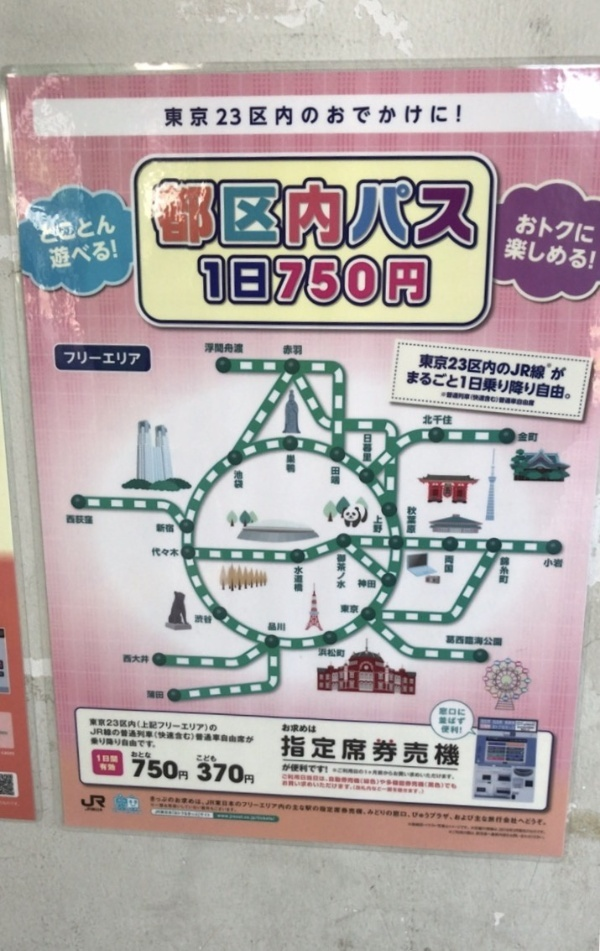text: (161, 186, 176, 244), (177, 186, 192, 244), (193, 186, 208, 244), (209, 186, 224, 244), (225, 186, 240, 244), (241, 186, 256, 244), (257, 186, 272, 244), (273, 186, 288, 244), (289, 186, 304, 244), (305, 186, 320, 244), (321, 186, 336, 244), (337, 186, 352, 244), (353, 186, 368, 244), (369, 186, 384, 244), (385, 186, 400, 244), (401, 186, 416, 244), (417, 186, 432, 244), (433, 186, 448, 244), (449, 186, 464, 244), (161, 799, 176, 845), (177, 799, 192, 845), (193, 799, 208, 845), (209, 799, 224, 845), (225, 799, 240, 845), (241, 799, 256, 845), (257, 799, 272, 845), (273, 799, 288, 845), (289, 799, 304, 845), (305, 799, 320, 845), (321, 799, 336, 845), (337, 799, 352, 845), (353, 799, 368, 845), (369, 799, 384, 845), (385, 799, 400, 845), (401, 799, 416, 845), (417, 799, 432, 845), (433, 799, 448, 845), (449, 799, 464, 845), (465, 799, 480, 845), (481, 799, 496, 845), (497, 799, 512, 845), (513, 799, 528, 845), (529, 799, 544, 845), (209, 262, 224, 301), (225, 262, 240, 301), (241, 262, 256, 301), (257, 262, 272, 301), (273, 262, 288, 301), (289, 262, 304, 301), (305, 262, 320, 301), (321, 262, 336, 301), (337, 262, 352, 301), (353, 262, 368, 301), (369, 262, 384, 301), (385, 262, 400, 301), (401, 262, 416, 301), (513, 237, 528, 271), (529, 237, 544, 271), (545, 237, 560, 271), (561, 237, 576, 271), (577, 237, 592, 271), (289, 737, 304, 770), (305, 737, 320, 770), (321, 737, 336, 770), (337, 737, 352, 770), (353, 737, 368, 770), (369, 737, 384, 770), (385, 737, 400, 770), (401, 737, 416, 770), (417, 737, 432, 770), (433, 737, 448, 770), (417, 370, 432, 401), (433, 370, 448, 401), (449, 370, 464, 401), (465, 370, 480, 401), (481, 370, 496, 401), (497, 370, 512, 401), (513, 370, 528, 401), (529, 370, 544, 401), (545, 370, 560, 401), (49, 215, 64, 246), (65, 215, 80, 246), (81, 215, 96, 246), (97, 215, 112, 246), (49, 239, 64, 270), (65, 239, 80, 270), (81, 239, 96, 270), (97, 239, 112, 270), (529, 214, 544, 244), (545, 214, 560, 244), (561, 214, 576, 244), (577, 214, 592, 244), (449, 707, 465, 735), (433, 353, 448, 382), (449, 353, 464, 382), (465, 353, 480, 382), (481, 353, 496, 382), (497, 353, 512, 382), (513, 353, 528, 382), (529, 353, 544, 382), (545, 353, 560, 382), (151, 799, 160, 845), (419, 353, 432, 382), (97, 731, 112, 755), (113, 731, 128, 755), (129, 731, 144, 755), (145, 731, 160, 755), (161, 731, 176, 755), (177, 731, 192, 755), (193, 731, 208, 755), (209, 731, 224, 755), (225, 731, 240, 755), (465, 186, 471, 244), (177, 105, 192, 128), (193, 105, 208, 128), (209, 105, 224, 128), (225, 105, 240, 128), (241, 105, 256, 128), (257, 105, 272, 128), (273, 105, 288, 128), (289, 105, 304, 128), (305, 105, 320, 128), (321, 105, 336, 128), (337, 105, 352, 128), (353, 105, 368, 128), (369, 105, 384, 128), (385, 105, 400, 128), (401, 105, 416, 128), (417, 105, 432, 128), (433, 105, 448, 128), (289, 776, 304, 799), (305, 776, 320, 799), (321, 776, 336, 799), (337, 776, 352, 799), (353, 776, 368, 799), (369, 776, 384, 799), (385, 776, 400, 799), (401, 776, 416, 799), (417, 776, 432, 799), (433, 776, 448, 799), (145, 759, 160, 782), (161, 759, 176, 782), (241, 731, 255, 755), (517, 214, 528, 244), (449, 737, 459, 770), (501, 557, 512, 586), (209, 763, 224, 784), (225, 763, 240, 784), (293, 567, 304, 593), (337, 554, 352, 573), (407, 370, 416, 401), (561, 370, 570, 401), (449, 105, 461, 128), (132, 759, 144, 782), (417, 262, 424, 301), (337, 573, 352, 590), (165, 105, 176, 128), (177, 759, 188, 782), (407, 505, 416, 533), (439, 707, 448, 735), (241, 763, 253, 784), (197, 763, 208, 784), (65, 352, 80, 367), (81, 352, 96, 367), (97, 352, 112, 367), (113, 352, 128, 367), (41, 215, 48, 246), (97, 718, 112, 732), (113, 718, 128, 732), (129, 718, 144, 732), (145, 718, 160, 732), (161, 718, 176, 732), (177, 718, 192, 732), (193, 718, 208, 732), (209, 342, 224, 356), (225, 342, 240, 356), (373, 516, 384, 535), (506, 237, 512, 271), (282, 737, 288, 770), (82, 795, 96, 809), (337, 769, 352, 782), (353, 769, 368, 782), (369, 769, 384, 782), (385, 769, 400, 782), (401, 769, 416, 782), (417, 769, 432, 782), (433, 769, 448, 782), (129, 352, 141, 367), (289, 345, 303, 357), (161, 546, 176, 557), (449, 635, 464, 646), (465, 635, 480, 646), (481, 635, 496, 646), (289, 763, 304, 774), (305, 763, 320, 774), (449, 776, 456, 799), (204, 262, 208, 301), (113, 239, 118, 270), (129, 654, 144, 664), (321, 649, 336, 659), (433, 415, 448, 425), (545, 559, 560, 569), (97, 754, 112, 764), (561, 353, 566, 382), (282, 776, 288, 799), (363, 434, 368, 461), (273, 622, 285, 633), (91, 731, 96, 755), (67, 515, 80, 524), (195, 615, 208, 624), (147, 690, 160, 699), (289, 455, 295, 474), (97, 795, 105, 809), (209, 718, 217, 732), (81, 515, 93, 524), (161, 524, 173, 533), (593, 237, 596, 271), (331, 466, 336, 486), (518, 432, 528, 442), (341, 606, 352, 615), (89, 718, 96, 732), (100, 763, 112, 771), (196, 754, 208, 762), (113, 215, 116, 246), (545, 799, 547, 845), (358, 581, 368, 590), (235, 471, 240, 489), (423, 415, 432, 425), (529, 432, 538, 442), (152, 546, 160, 557), (321, 763, 329, 774), (449, 556, 454, 573), (369, 434, 372, 461), (337, 649, 345, 659), (131, 752, 144, 758), (449, 769, 454, 782), (369, 581, 376, 590), (593, 214, 595, 244), (337, 466, 340, 486), (283, 345, 288, 357), (159, 186, 160, 244), (209, 754, 216, 762), (283, 763, 288, 774), (353, 606, 359, 615), (445, 556, 448, 573), (123, 654, 128, 664), (113, 754, 118, 764), (268, 622, 272, 633), (497, 635, 501, 646), (145, 654, 149, 664), (333, 769, 336, 782), (241, 471, 243, 489), (145, 752, 151, 758), (449, 415, 452, 425), (206, 342, 208, 356), (241, 342, 243, 356), (157, 524, 160, 533), (446, 635, 448, 646), (561, 559, 563, 569), (287, 455, 288, 474), (209, 615, 211, 624), (161, 690, 163, 699), (113, 763, 115, 771), (177, 546, 178, 557), (319, 649, 320, 659)
